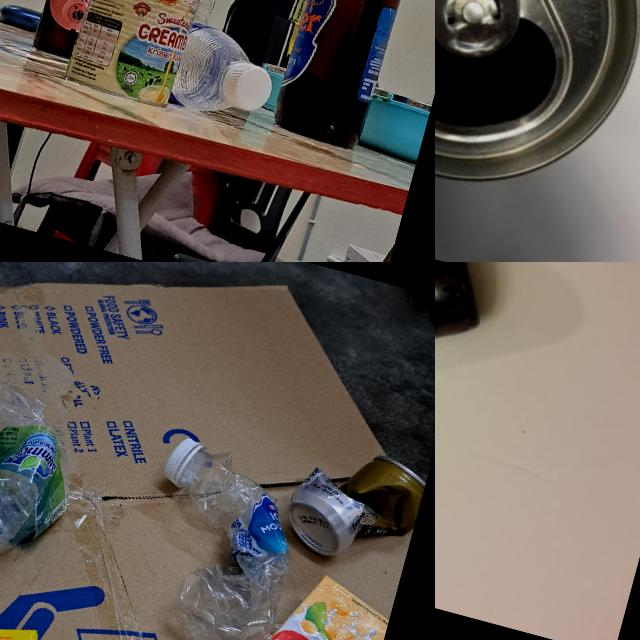aba de lata: (435, 0, 545, 68)
caixinha: (174, 551, 394, 640)
garrafa de vidro: (275, 0, 435, 150), (34, 0, 162, 65)
garrafa plástica: (117, 430, 314, 640), (0, 371, 93, 611), (106, 0, 271, 81), (167, 17, 284, 130)
lata: (435, 0, 640, 219), (277, 436, 428, 576), (67, 0, 208, 107)
papelão: (0, 262, 435, 640)
tampa plástica: (215, 53, 279, 116), (156, 428, 204, 489)
